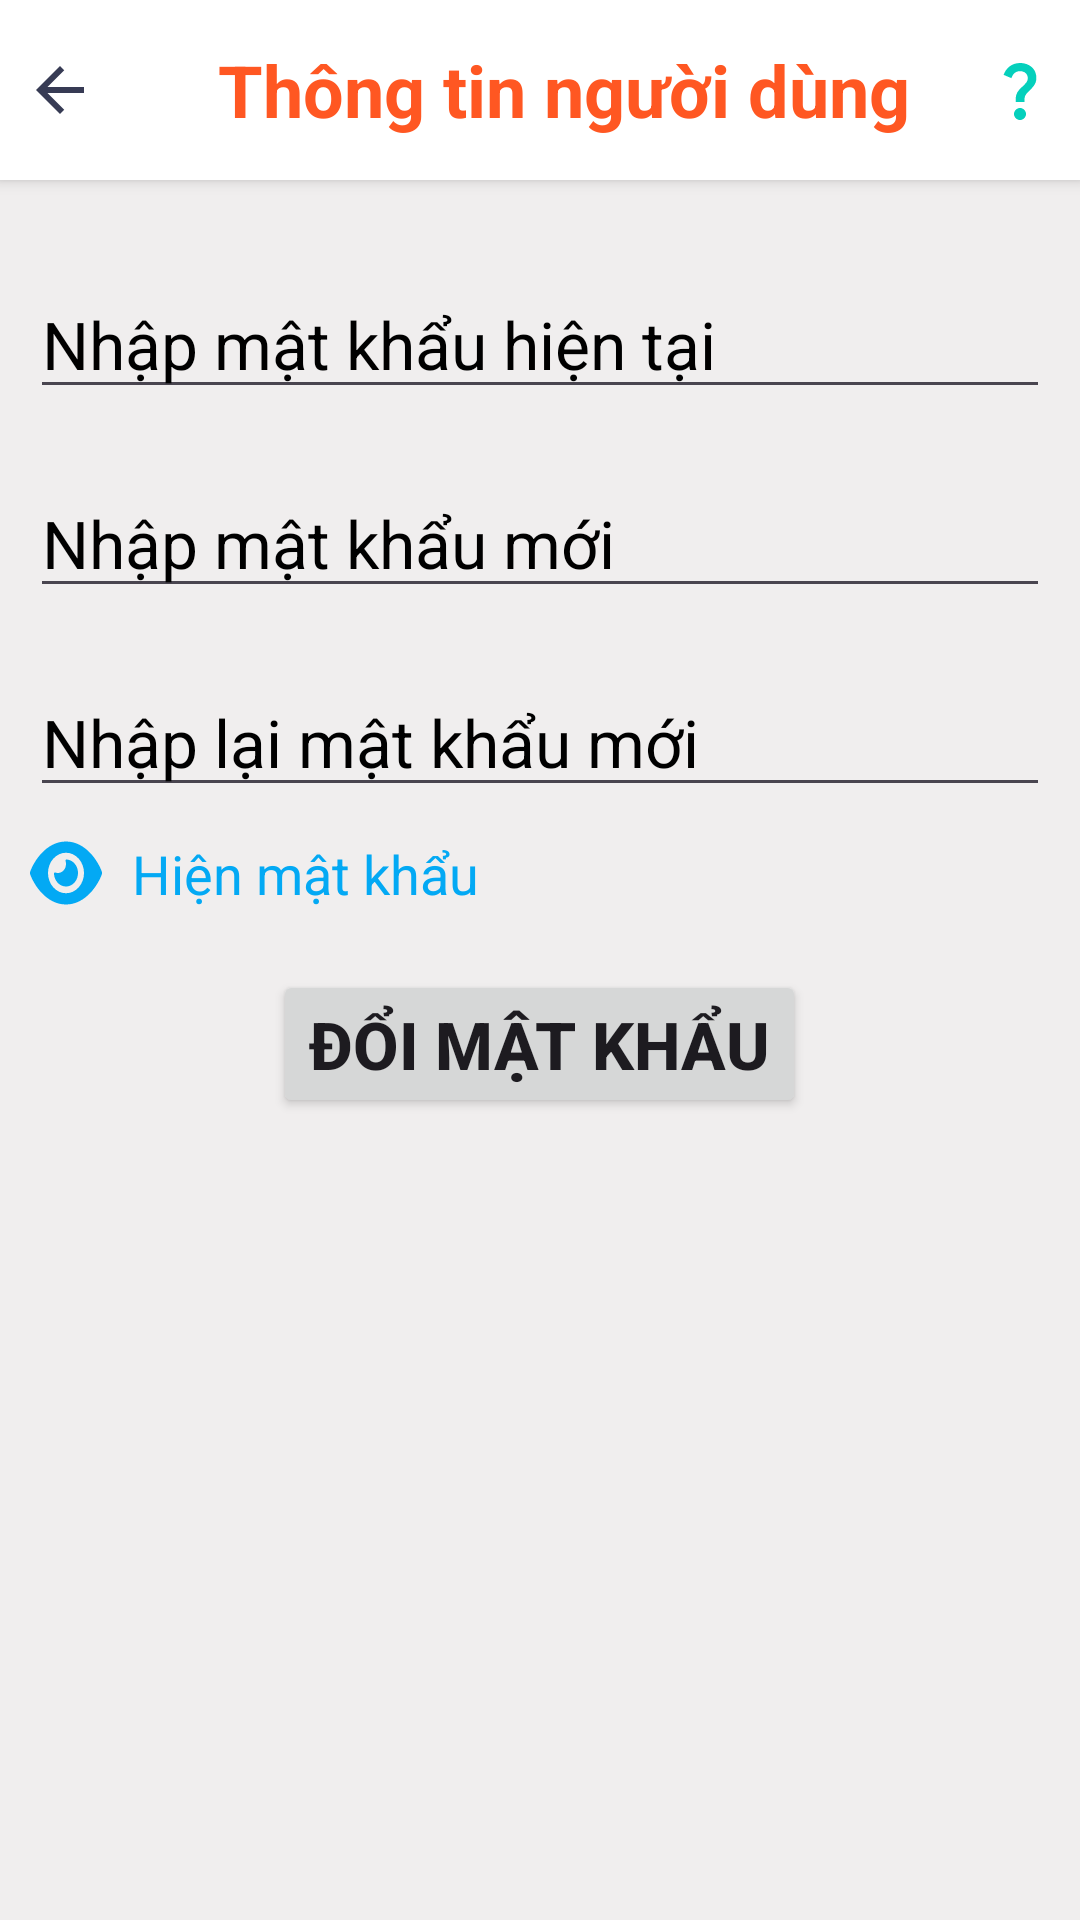

Icons on this 1080×1920 Android screen, each with the point to tap as [x,y]:
arrow back: [60,90]
question mark: [1020,91]
